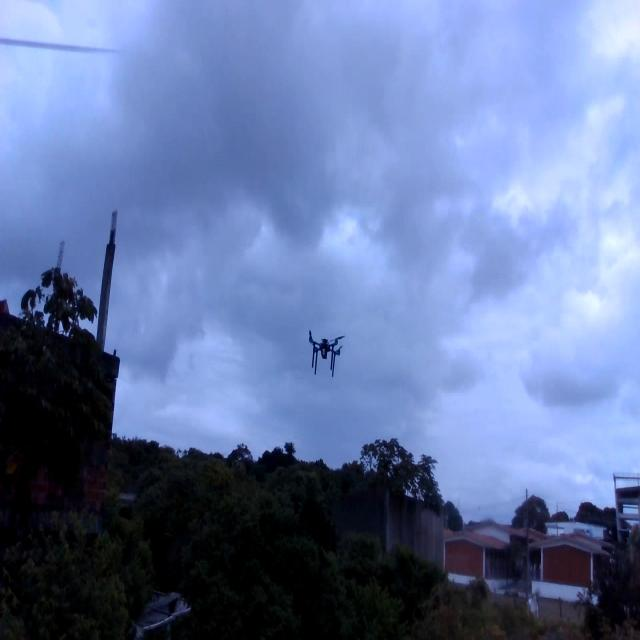-uav-: (296, 320, 352, 394)
